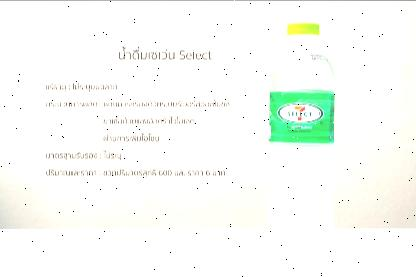Plastic Bottle: (269, 22, 335, 262)
